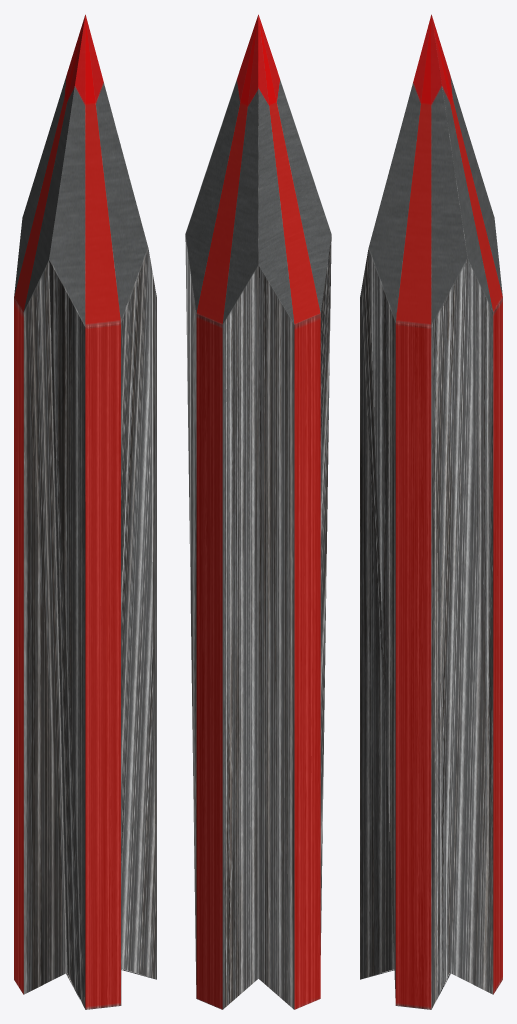
The model's file is missile.fbx.
The picture shows the model from 3 angles, left to right: view 1: azimuth 30°, elevation 25°; view 2: azimuth 150°, elevation 25°; view 3: azimuth 270°, elevation 25°; orthographic projection.
Parts seen in each view (by area): view 1: Cylinder; view 2: Cylinder; view 3: Cylinder.
Boxes of the visible parts, bbox=[...] form: Cylinder: bbox=[14, 14, 156, 1009]; Cylinder: bbox=[185, 14, 331, 1009]; Cylinder: bbox=[360, 14, 502, 1009].
Size of the model in its own units: 36.71 by 274 by 36.71.
